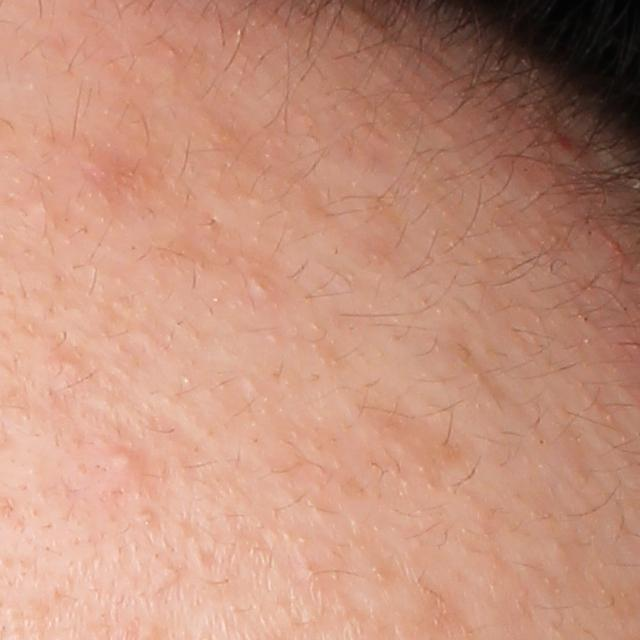comedo: (45, 356, 82, 378)
